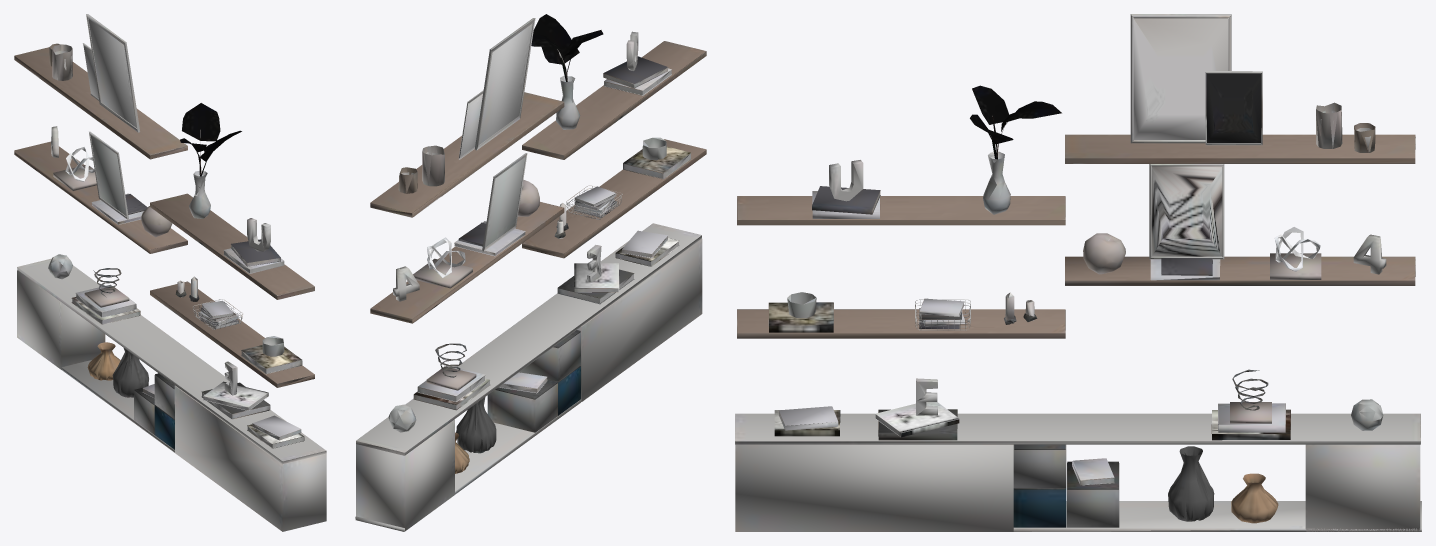
Rendered from Cupboard0002.obj.
3 views of the same model, side by side, from view 1: azimuth 30°, elevation 25°; view 2: azimuth 150°, elevation 25°; view 3: azimuth 270°, elevation 25° (orthographic). The views are drawn at different scales.
Bounding box in the file's own units: 0.42 × 2.56 × 3.27.
1 material, 1 textured.
